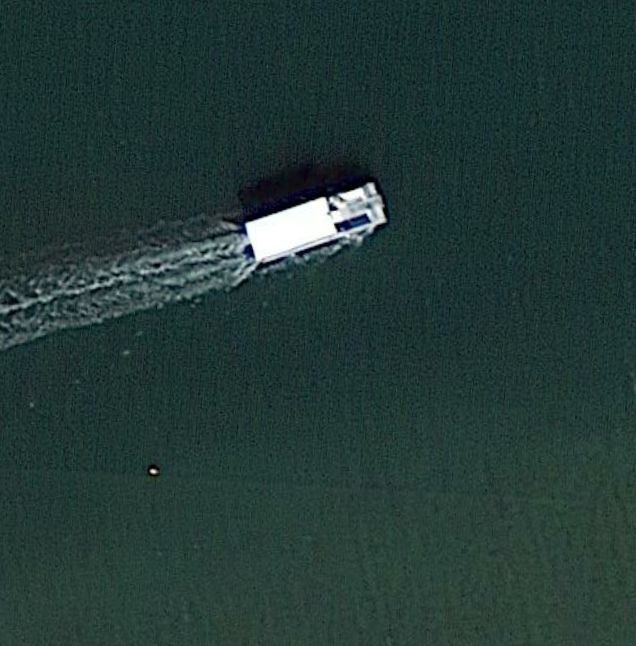boat: (236, 180, 389, 277)
